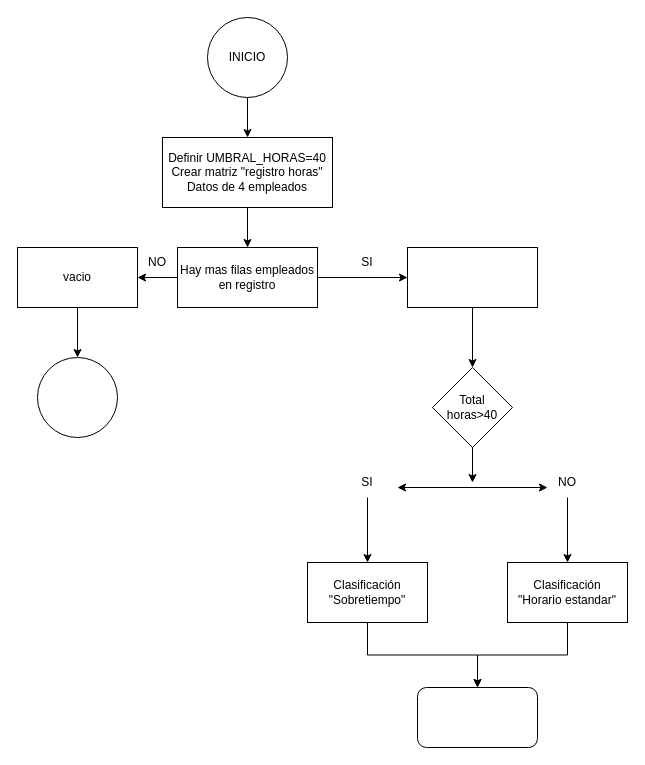
Image size: 645x765. Some labels were removed from this diagram. The shapes that lost their labels are listed below. From the top down, each one's box as (x1, y1, x2, y2) in pixels, then its label:
(406, 246, 538, 308): Obtener nombre=fila[0] calcular total horas=sum(fila[1:]
(36, 356, 118, 438): FIN
(416, 686, 538, 748): Imprimir: Nombre, Total horas y clasificación de la jornada
